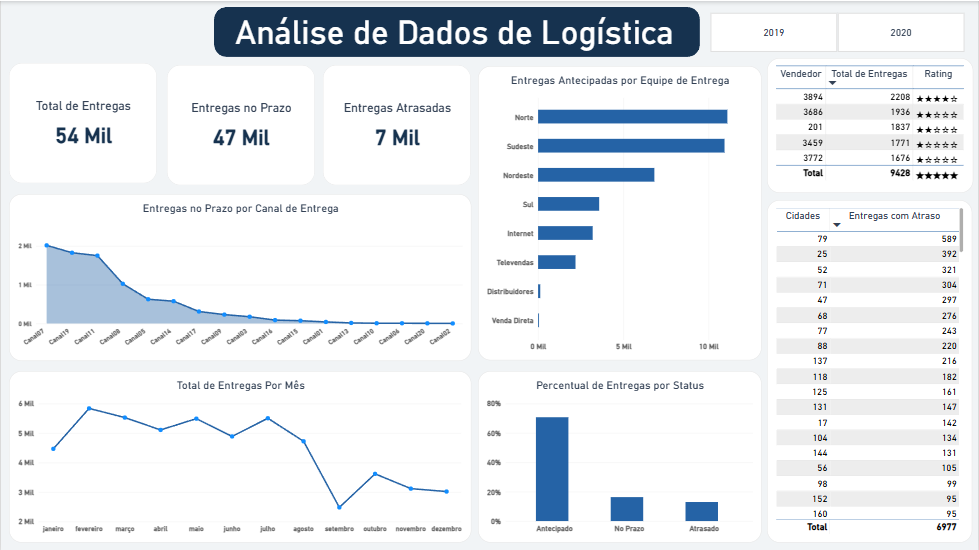

Layout of this report page (visuals, bound fields, positions):
{"tool":"powerbi","page":{"name":"Página 1","canvas":[1920,1080],"ordinal":0},"visuals":[{"type":"areaChart","title":"Entregas no Prazo por Canal de Entrega","fields":{"Category":["Logistica.Canal_Entrega"],"Y":["Medidas.Entregas_Noprazo"]},"box":[15,378.3,908.3,328.3],"z":0},{"type":"clusteredBarChart","title":"Entregas Antecipadas por Equipe de Entrega","fields":{"Category":["Logistica.Equipe_Entrega"],"Y":["Medidas.Entregas_Anteciapdas"]},"box":[936.7,128.3,556.7,578.3],"z":1000},{"type":"lineChart","title":"Total de Entregas Por Mês","fields":{"Category":["Logistica.Data_Entrega_Realizada.Variation.Hierarquia de datas.Mês"],"Y":["Medidas.Total_Entregas"]},"box":[15,726.7,908.3,336.7],"z":2000},{"type":"columnChart","title":"Percentual de Entregas por Status","fields":{"Category":["Logistica.Status_Entrega"],"Y":["Medidas.Total_Entregas"]},"box":[936.7,726.7,556.7,336.7],"z":3000},{"type":"tableEx","fields":{"Values":["Logistica.ID_Vendedor","Medidas.Total_Entregas","Medidas.Rating"]},"box":[1505,112.5,405,265],"z":4000},{"type":"tableEx","fields":{"Values":["Logistica.ID_Cidade","Medidas.Entregas_Atrasadas"]},"box":[1505,390,403.3,673.3],"z":5000},{"type":"cardVisual","fields":{"Data":["Medidas.Total_Entregas"]},"box":[15,122.5,290,236.7],"z":6000},{"type":"cardVisual","fields":{"Data":["Medidas.Entregas_Noprazo_Antecipadas"]},"box":[325,125,290,236.7],"z":7000},{"type":"cardVisual","fields":{"Data":["Medidas.Entregas_Atrasadas"]},"box":[632.5,125,290,236.7],"z":8000},{"type":"slicer","fields":{"Values":["Logistica.Data_Entrega_Realizada.Variation.Hierarquia de datas.Ano"]},"box":[1372.5,22.5,537.5,80],"z":9000},{"type":"shape","box":[418.3,11.8,954.3,98.2],"z":10000},{"type":"textbox","box":[459.5,23.6,870,75],"z":11000}]}

Visuals, with their boxes in screenshot pixels (x1, y1, x2, y2), scaled from the page's 1920x1080 canvas onto the 979x550 screenshot:
"Entregas no Prazo por Canal de Entrega" areaChart: box=[8, 193, 471, 360]
"Entregas Antecipadas por Equipe de Entrega" clusteredBarChart: box=[478, 65, 761, 360]
"Total de Entregas Por Mês" lineChart: box=[8, 370, 471, 542]
"Percentual de Entregas por Status" columnChart: box=[478, 370, 761, 542]
tableEx - Logistica.ID_Vendedor x Medidas.Total_Entregas: box=[767, 57, 974, 192]
tableEx - Logistica.ID_Cidade x Medidas.Entregas_Atrasadas: box=[767, 199, 973, 541]
cardVisual - Medidas.Total_Entregas: box=[8, 62, 156, 183]
cardVisual - Medidas.Entregas_Noprazo_Antecipadas: box=[166, 64, 314, 184]
cardVisual - Medidas.Entregas_Atrasadas: box=[323, 64, 470, 184]
slicer - Logistica.Data_Entrega_Realizada.Variation.Hierarquia de datas.Ano: box=[700, 11, 974, 52]
shape: box=[213, 6, 700, 56]
textbox: box=[234, 12, 678, 50]
